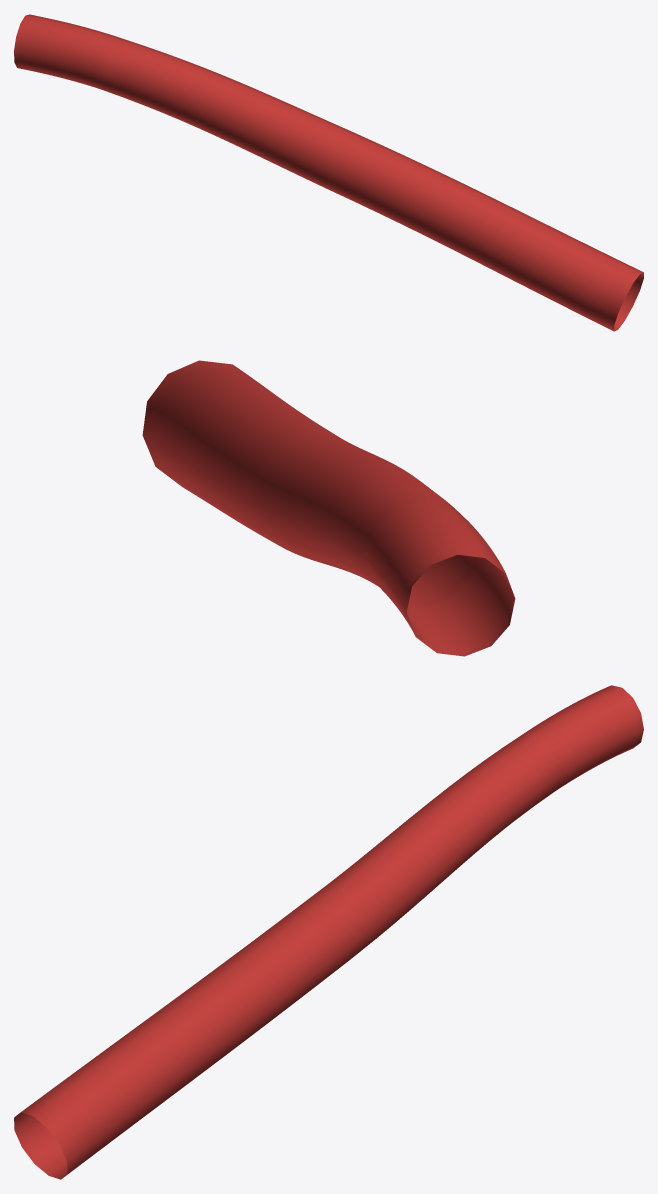
The picture shows the model from 3 angles, top to bottom: view 1: azimuth 30°, elevation 25°; view 2: azimuth 150°, elevation 25°; view 3: azimuth 270°, elevation 25°; orthographic projection. The views are drawn at different scales.
Parts seen in each view (by area): view 1: 回结肠动脉; view 2: 回结肠动脉; view 3: 回结肠动脉.
Part boxes in pixels (bbox=[...]): 回结肠动脉: bbox=[14, 14, 643, 331]; 回结肠动脉: bbox=[142, 360, 515, 656]; 回结肠动脉: bbox=[14, 685, 643, 1179].
Size of the model in its own units: 0.0376 by 0.0201 by 0.0415.
